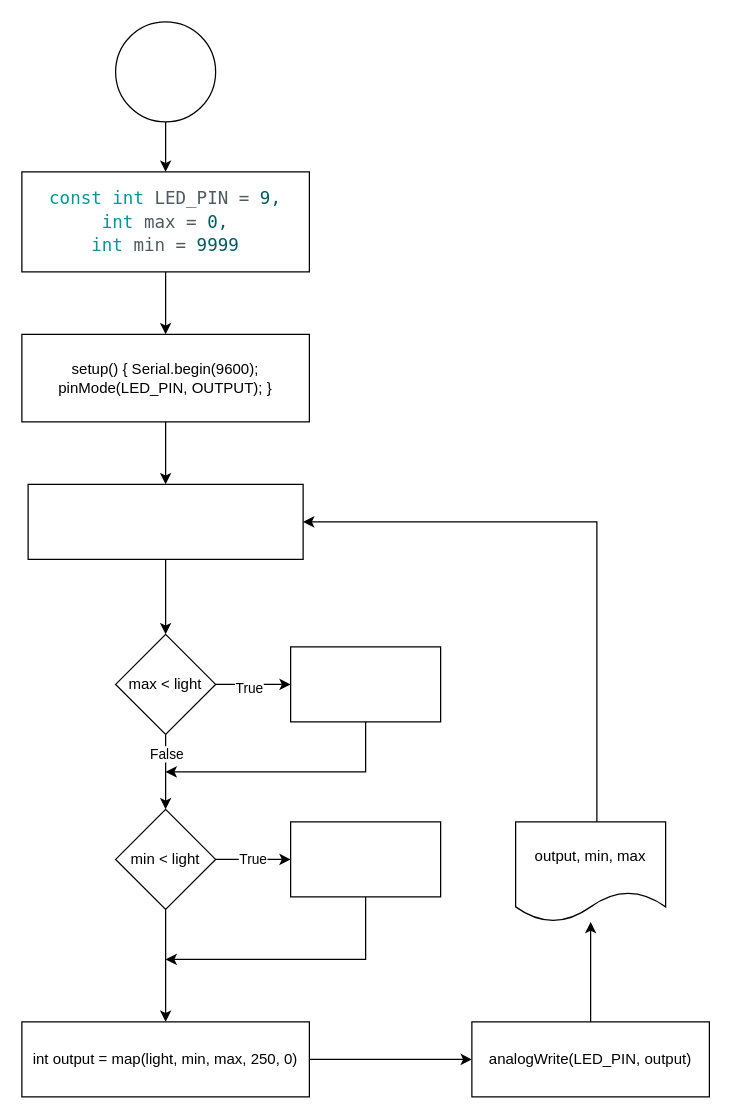
Some shapes in this 731 by 1119 pixel diagram are drawn without their labels. The shapes that lost their labels are listed below. From the top down, each one's centre as x and y in pixels, then its label:
[165,521]: int light = analogRead(A0);
[365,684]: max = light
[365,859]: min = light
